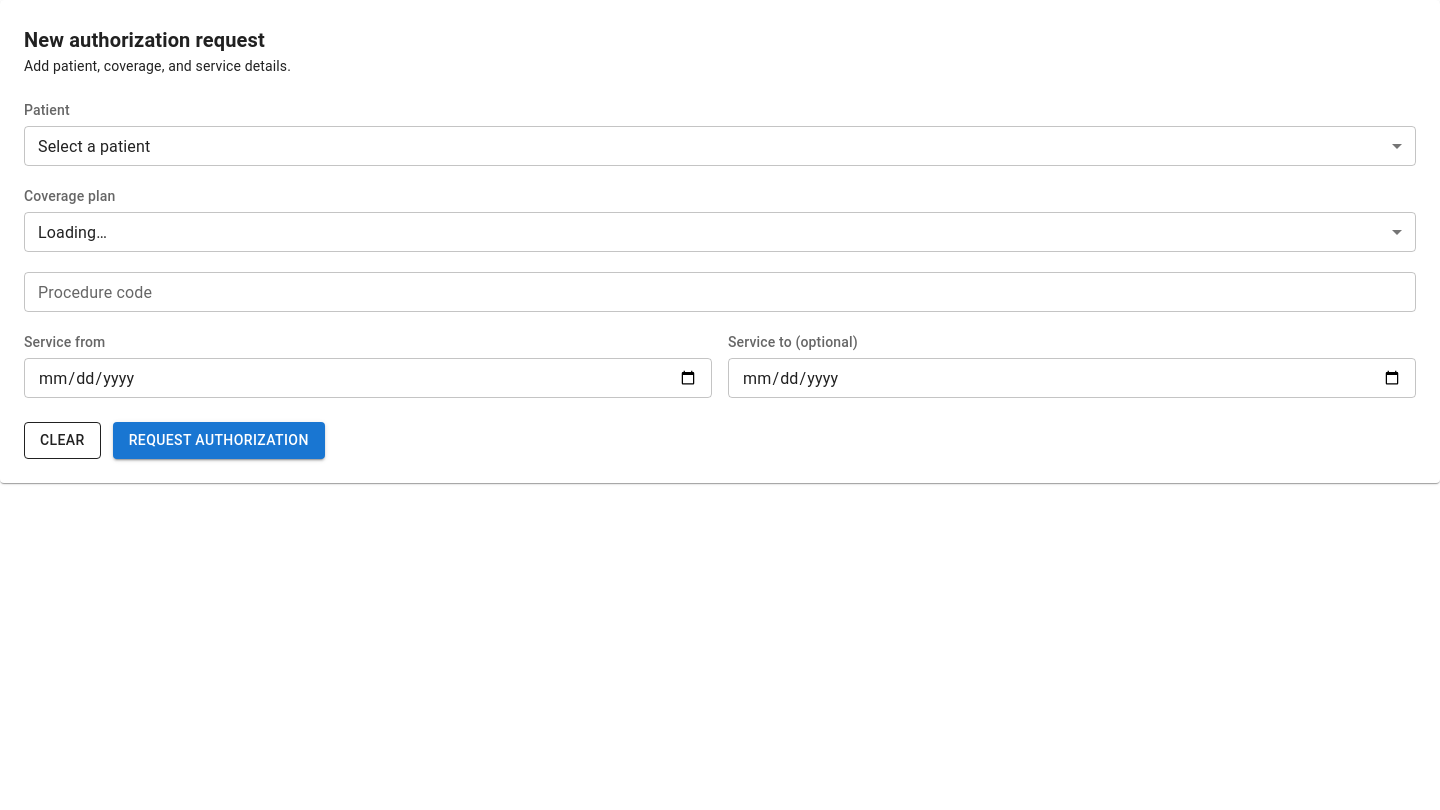
CreatePriorAuthForm › blocks submit when required fields are missing
Nothing selected/entered → Zod stops the submit and the API is never called.
Step 1. Click the button "Request authorization" → {"x": 219, "y": 440}, box 113,422 -> 325,459
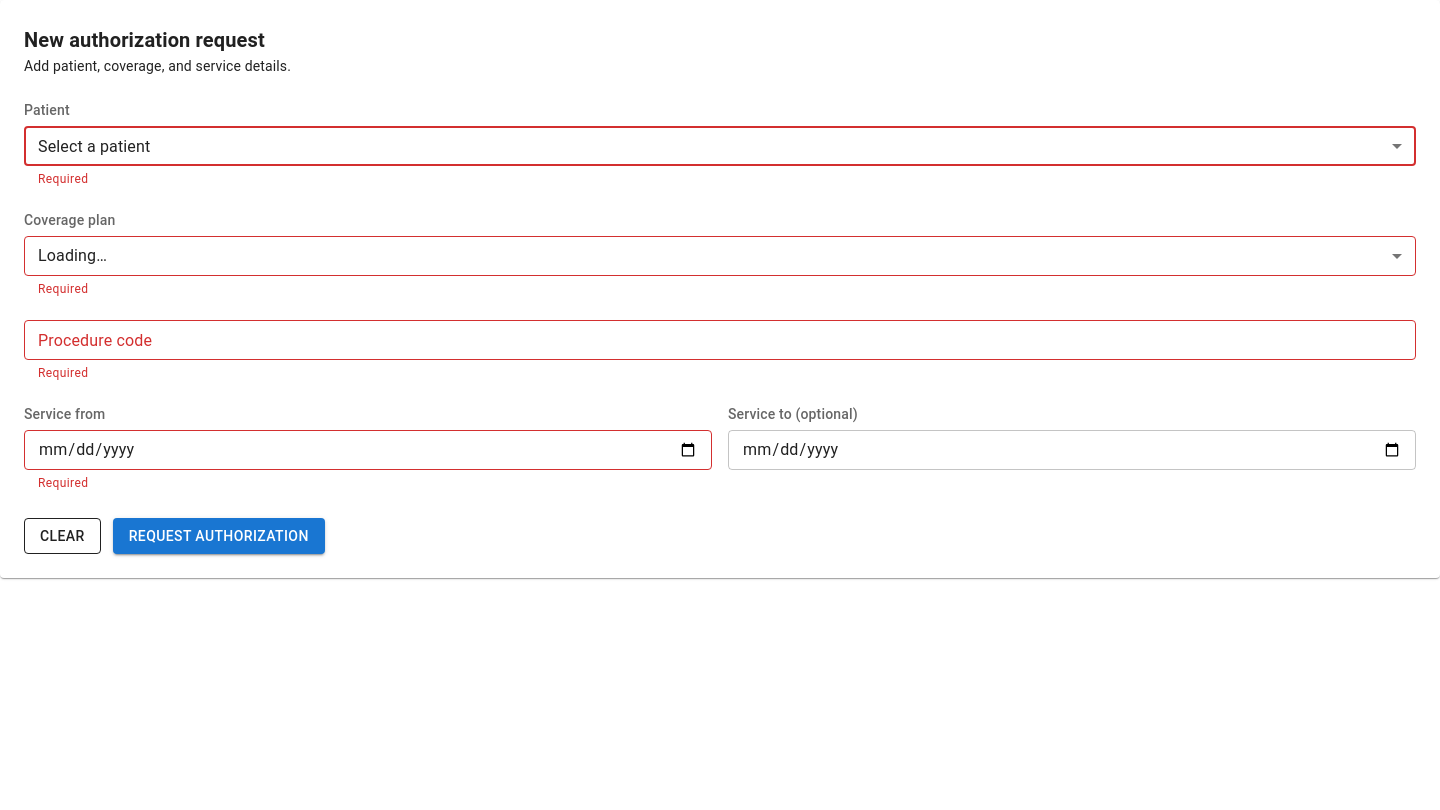
Expected: the 1st text "Required" is shown, 38,172 -> 88,186
